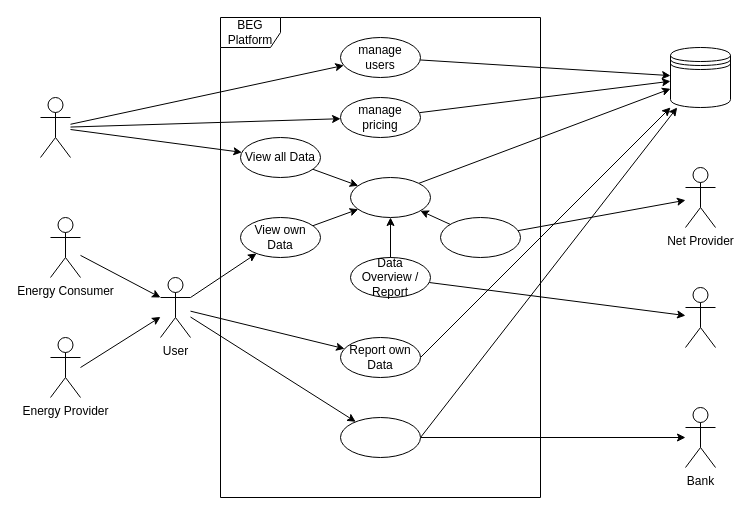
This 751x515 diagram has some shape labels left out. The centre of each missing label's shape, as x and y in pixels:
"BEG Admin" goes at pixel 55 127.
"Billing" goes at pixel 380 437.
"Daten bank" goes at pixel 700 77.
"Get Data" goes at pixel 390 197.
"Government" goes at pixel 700 317.
"View energy Data" goes at pixel 480 237.
